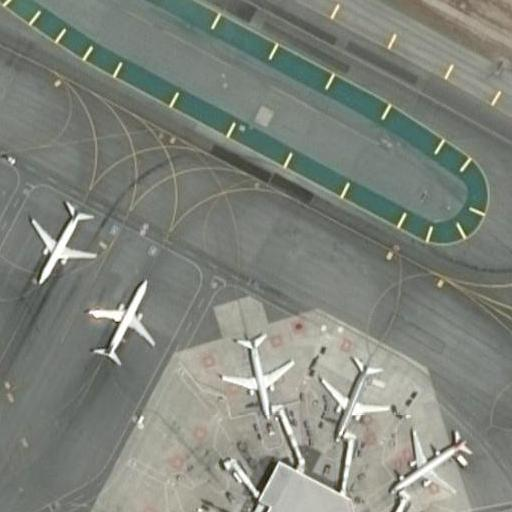Aircraft: (80, 278, 167, 370), (16, 196, 101, 285), (385, 427, 475, 509), (310, 349, 389, 440), (219, 324, 290, 413)
